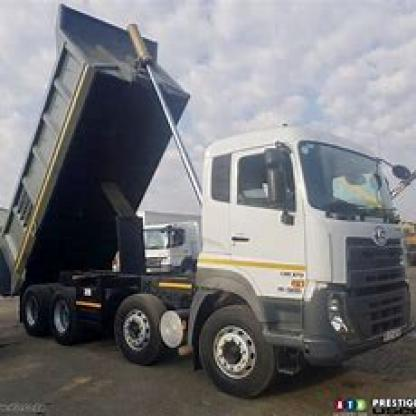dump_truck: (4, 22, 410, 392)
